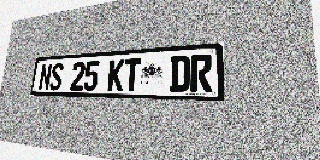2: (70, 61, 86, 91)
5: (83, 61, 100, 91)
D: (169, 55, 190, 92)
K: (107, 59, 125, 91)
N: (38, 63, 52, 90)
R: (190, 54, 212, 92)
S: (49, 63, 64, 90)
T: (123, 58, 141, 91)
